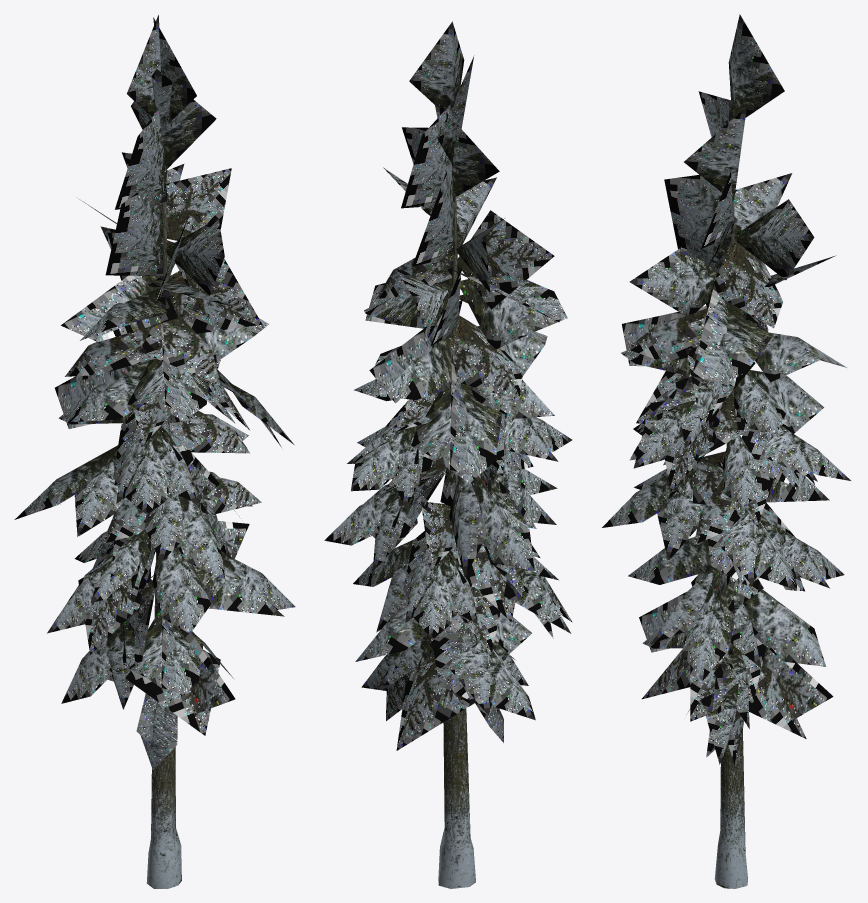
The model's file is treepineforestsnow02-transformed.glb.
3 views of the same model, side by side, from view 1: azimuth 30°, elevation 25°; view 2: azimuth 150°, elevation 25°; view 3: azimuth 270°, elevation 25° (orthographic).
Visible parts, largest first — view 1: default; view 2: default; view 3: default.
Part boxes in pixels (x1,y1,x2,y2): default: (14,15,295,888); default: (324,21,572,888); default: (602,14,850,888).
Size of the model in its own units: 7.26 by 25.71 by 6.78.
2 materials, 2 textured.
